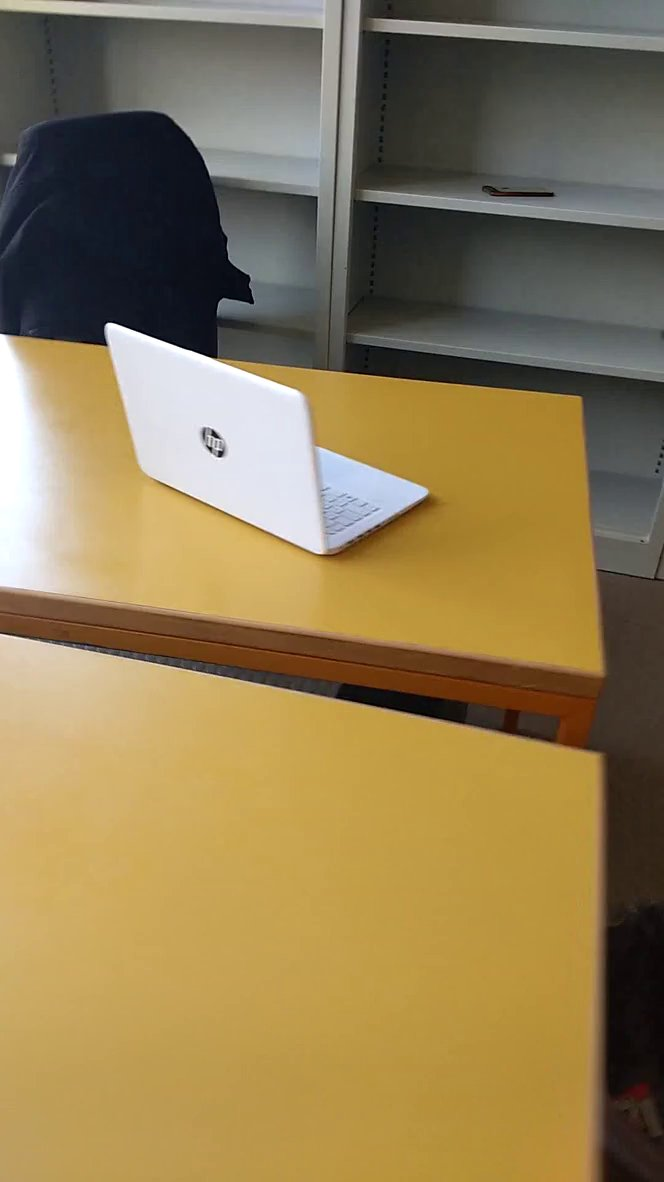chair: (3, 94, 249, 370)
laptop: (101, 312, 443, 567)
